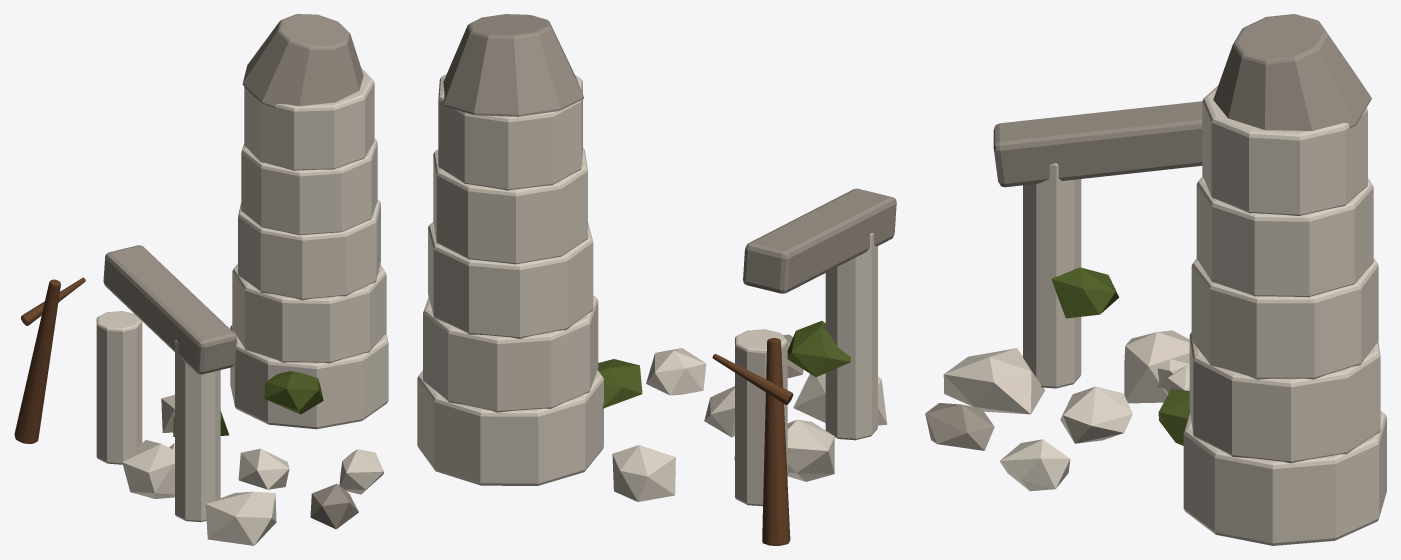
The model's file is landmark_watchpost.glb.
3 renders of one model, left to right at view 1: azimuth 30°, elevation 25°; view 2: azimuth 150°, elevation 25°; view 3: azimuth 270°, elevation 25°, orthographic. The views are drawn at different scales.
Visible parts, largest first — view 1: tower_c1, tower_c2, tower_c3, tower_c0, tower_c4, tower_broken, gate_lintel, gate_col2, gate_col1, rubble0, deadtree, rubble6 (+6 smaller); view 2: tower_c0, tower_c1, tower_c2, tower_c3, tower_broken, tower_c4, gate_lintel, gate_col1, gate_col2, deadtree, rubble4, rubble6 (+6 smaller); view 3: tower_c0, tower_c1, tower_c2, tower_c3, tower_c4, tower_broken, gate_lintel, gate_col1, rubble0, rubble6, rubble7, rubble3 (+3 smaller).
Boxes of the visible parts, x1,y1,x2,y2 form: tower_c1: (232, 264, 386, 363); tower_c2: (238, 200, 380, 300); tower_c3: (241, 139, 377, 235); tower_c0: (230, 325, 388, 429); tower_c4: (244, 68, 374, 170); tower_broken: (242, 14, 363, 107); gate_lintel: (103, 245, 236, 374); gate_col2: (96, 311, 142, 464); gate_col1: (175, 340, 220, 522); rubble0: (205, 491, 276, 545); deadtree: (14, 279, 60, 443); rubble6: (122, 440, 174, 498); tower_c0: (417, 370, 603, 485); tower_c1: (423, 295, 598, 412); tower_c2: (428, 222, 593, 338); tower_c3: (433, 147, 587, 264); tower_broken: (443, 14, 583, 116); tower_c4: (438, 74, 582, 190); gate_lintel: (743, 188, 896, 293); gate_col1: (825, 233, 877, 440); gate_col2: (735, 329, 787, 506); deadtree: (762, 338, 790, 545); rubble4: (612, 445, 675, 501); rubble6: (787, 419, 834, 481); tower_c0: (1183, 411, 1386, 545); tower_c1: (1189, 332, 1380, 463); tower_c2: (1191, 258, 1378, 379); tower_c3: (1196, 176, 1373, 297); tower_c4: (1202, 85, 1367, 216); tower_broken: (1213, 14, 1371, 143); gate_lintel: (993, 101, 1202, 187); gate_col1: (1023, 163, 1081, 388); rubble0: (943, 348, 1045, 414); rubble6: (1124, 330, 1189, 403); rubble7: (1060, 386, 1132, 443); rubble3: (925, 403, 994, 450).
Bounding box in the file's own units: 2.98 × 3.27 × 2.76.
